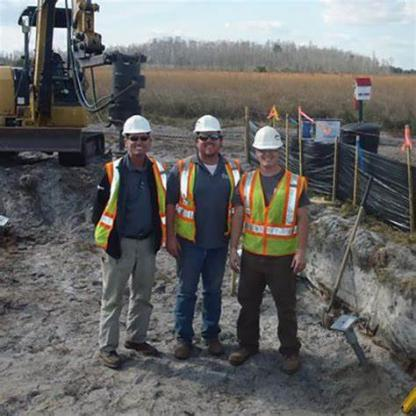person: (239, 112, 310, 379), (162, 106, 236, 354), (95, 102, 162, 362)
